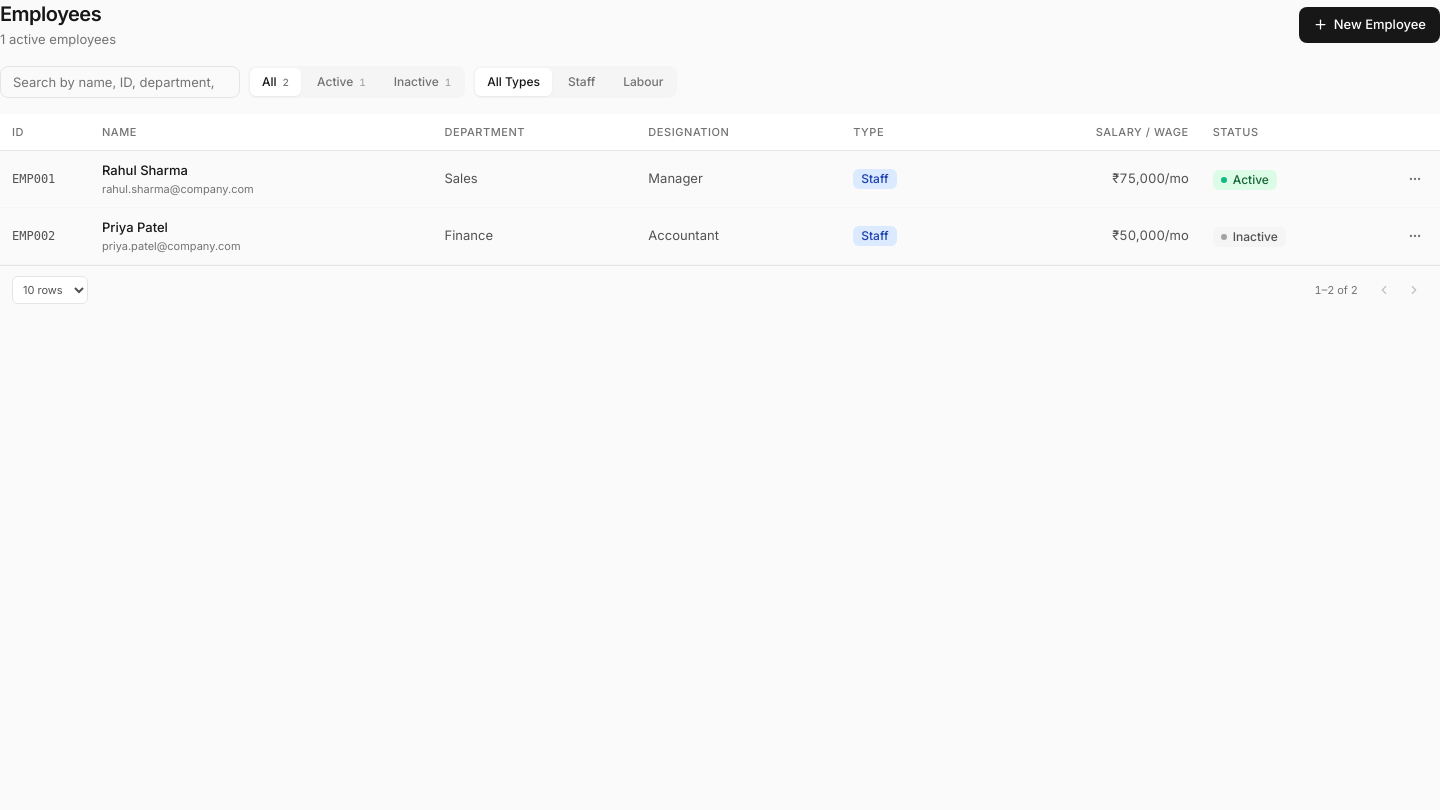
Test case: EmployeesPage › validates duplicate employee code
The width and height of the screenshot is (1440, 810).
Click the button "New Employee". click: coordinates (1369, 25)
box: left=1299, top=7, right=1439, bottom=43
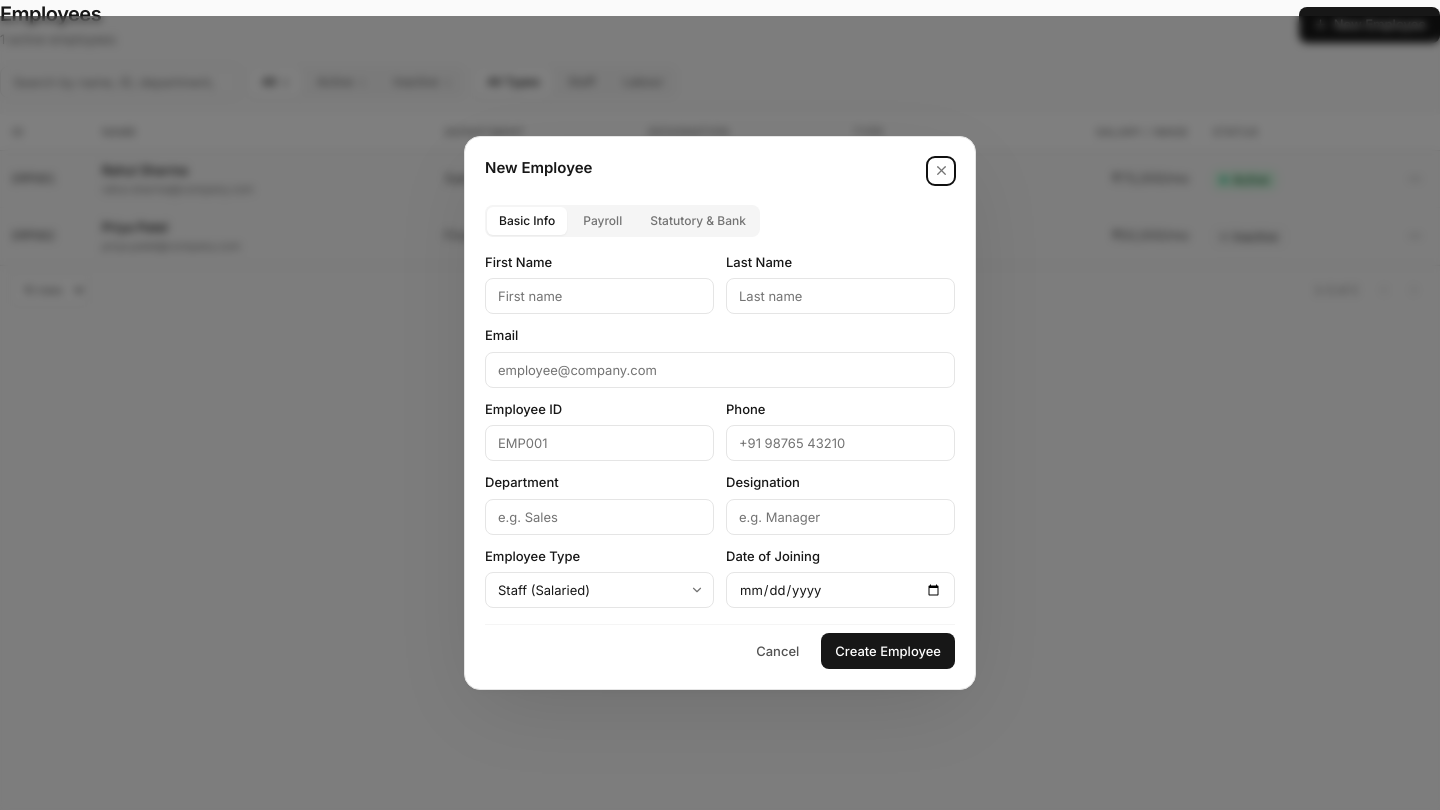
Expected: the field with placeholder "First Name" is shown
Note: Fill required fields
Type "Test" into the field with placeholder "First Name". click: coordinates (600, 296)
box: left=485, top=278, right=714, bottom=314
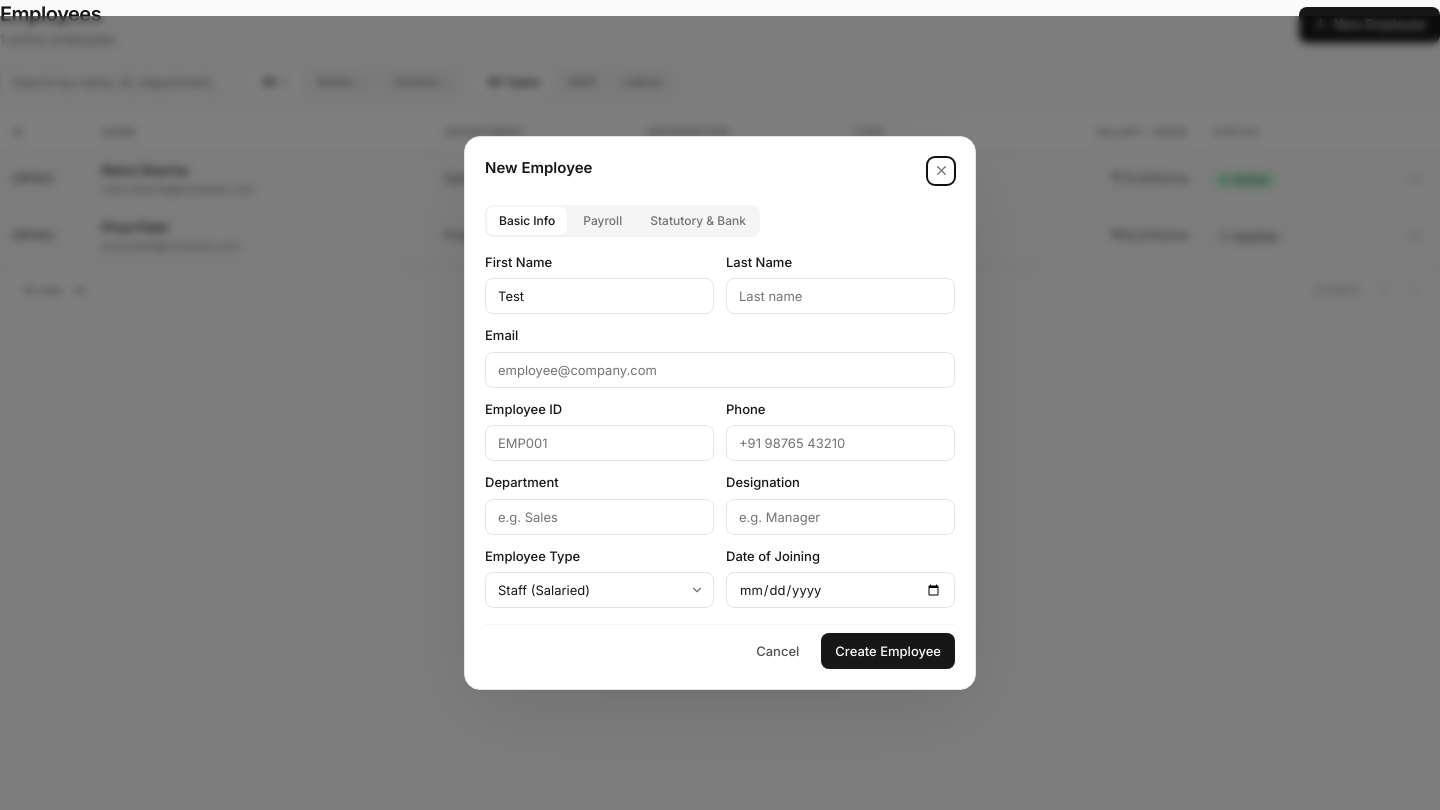
Type "User" into the field with placeholder "Last Name". click: coordinates (840, 296)
box: left=726, top=278, right=955, bottom=314
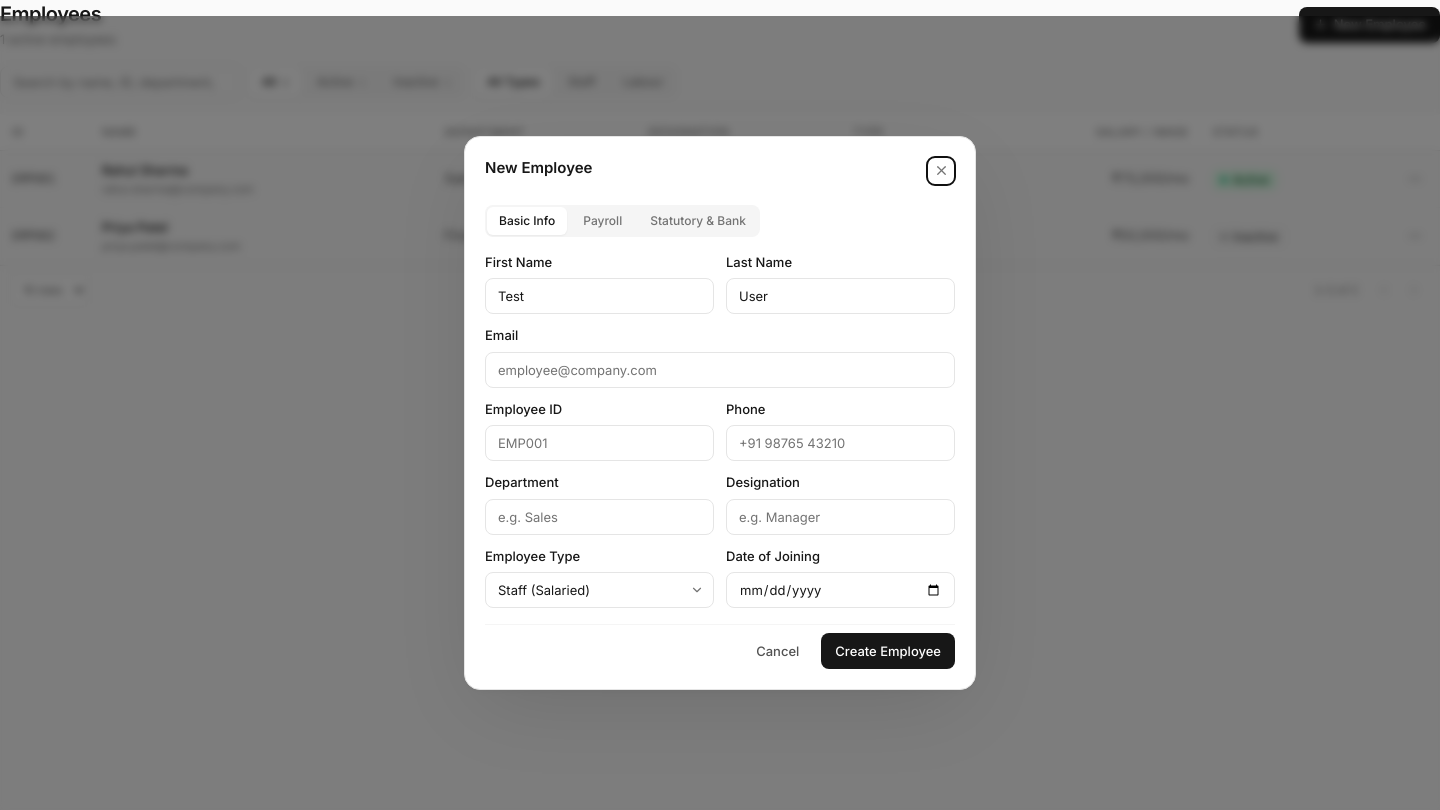
Type "test@test.com" into the field with placeholder "employee@company.com". click: coordinates (720, 370)
box: left=485, top=352, right=955, bottom=388
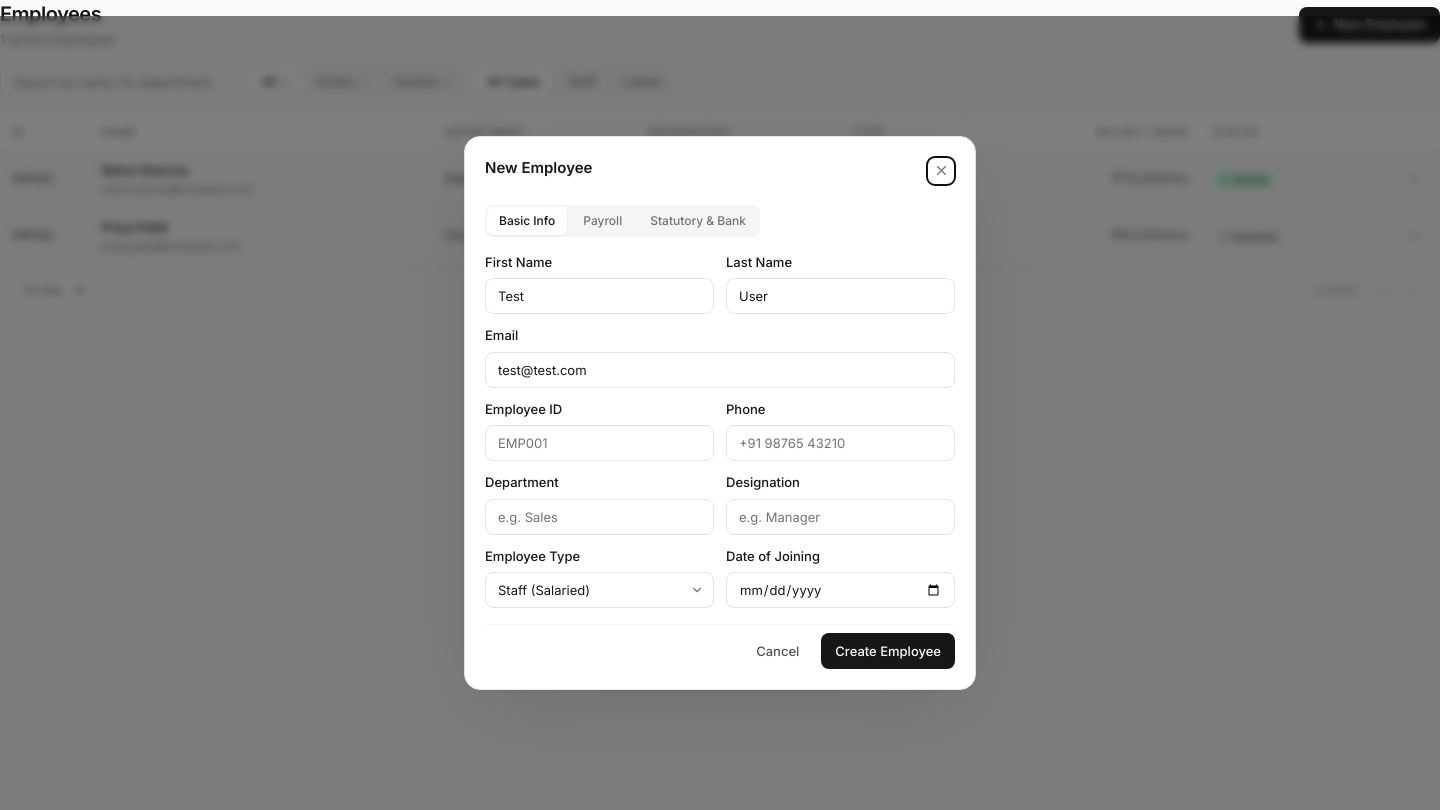
Type "emp001" into the field with placeholder "EMP001". click: coordinates (600, 443)
box: left=485, top=425, right=714, bottom=461
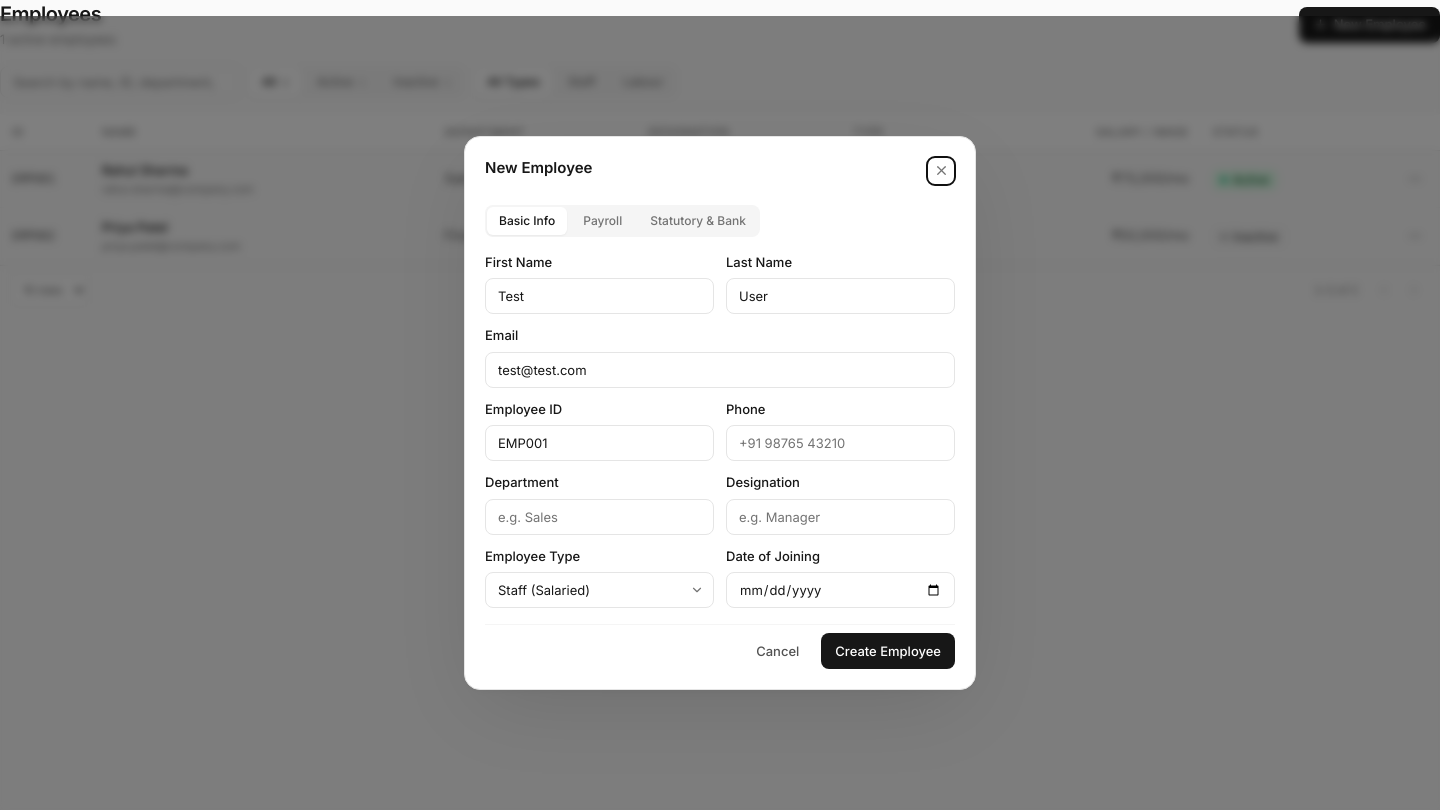
Click the button "Create Employee". click: coordinates (888, 651)
box: left=821, top=633, right=955, bottom=669
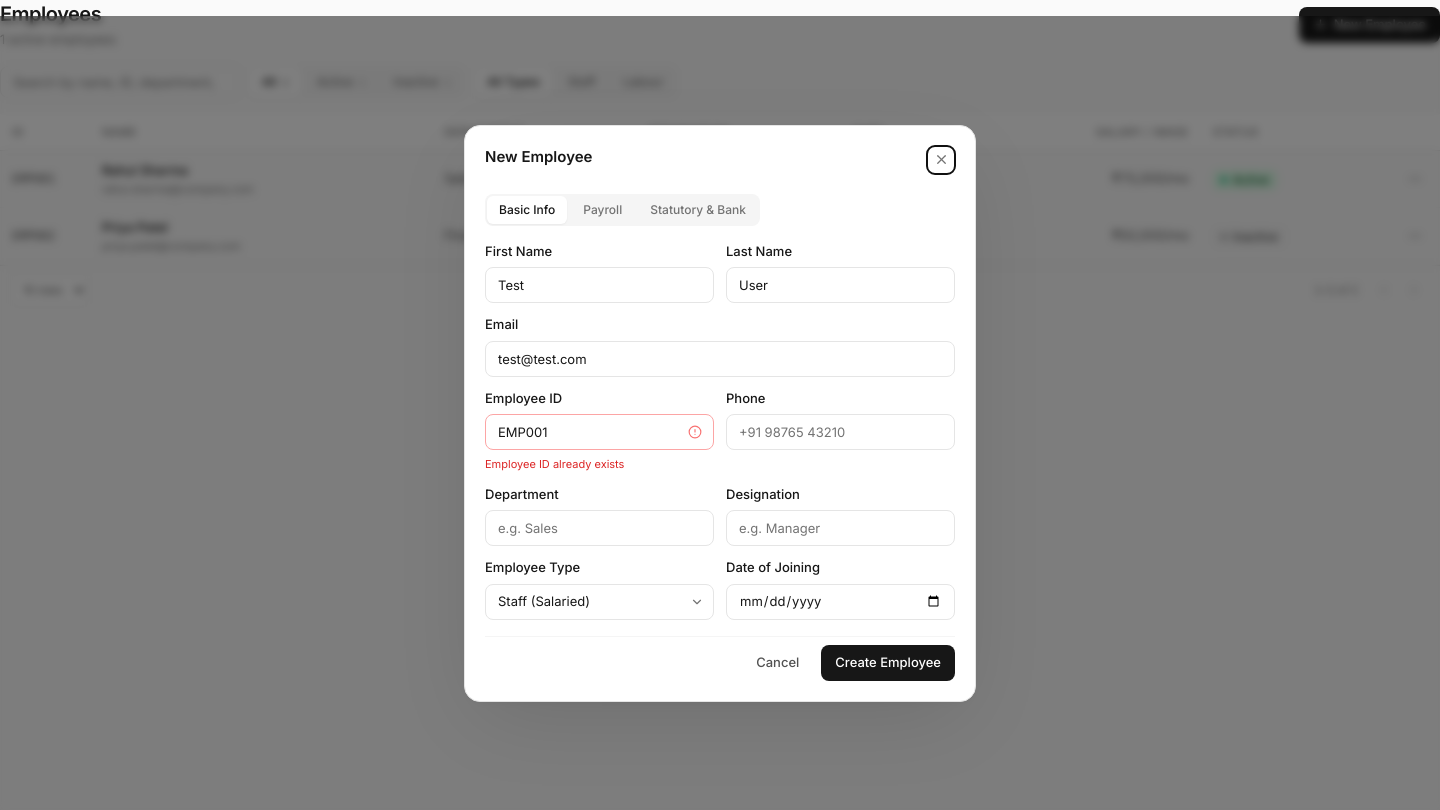
Expected: the text "Employee ID already exists" is shown, left=485, top=457, right=624, bottom=471
